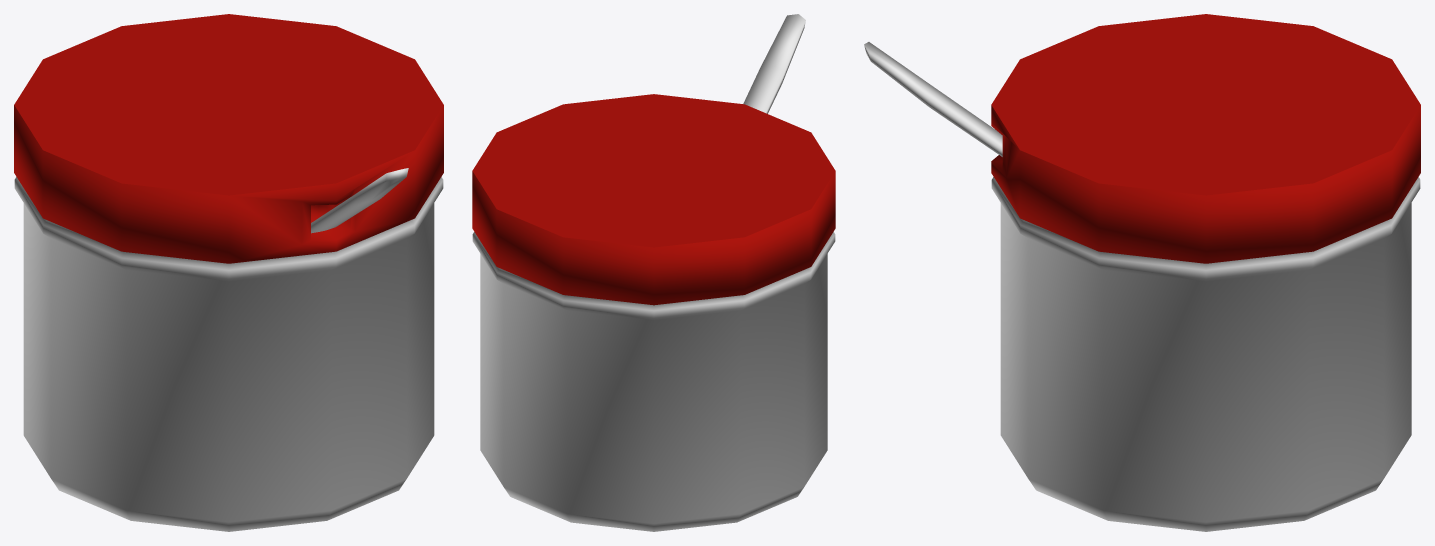
The model's file is CruetSugar.glb.
3 views of the same model, side by side, from view 1: azimuth 30°, elevation 25°; view 2: azimuth 150°, elevation 25°; view 3: azimuth 270°, elevation 25° (orthographic). The views are drawn at different scales.
Visible parts, largest first — view 1: Cylinder; view 2: Cylinder; view 3: Cylinder.
Part boxes in pixels (x1,y1,x2,y2): Cylinder: (14, 14, 443, 531); Cylinder: (472, 14, 835, 531); Cylinder: (864, 14, 1420, 531).
Size of the model in its own units: 0.2511 by 0.2609 by 0.3255.
